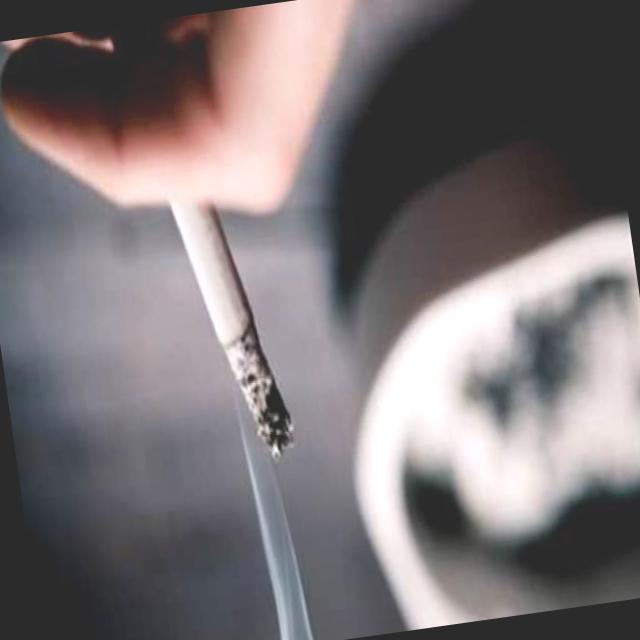cigarette: (162, 194, 300, 471)
